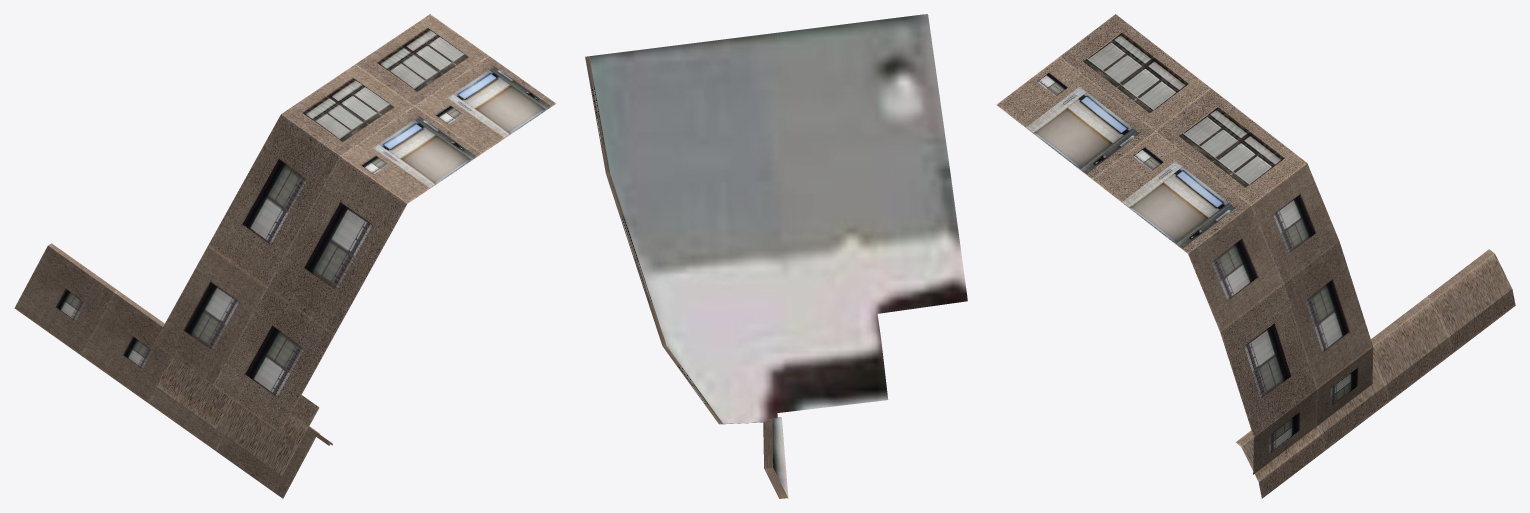
3 renders of one model, left to right at view 1: azimuth 30°, elevation 25°; view 2: azimuth 150°, elevation 25°; view 3: azimuth 270°, elevation 25°, orthographic. The views are drawn at different scales.
Bounding box in the file's own units: 18.04 × 19.93 × 20.93.
Materials: 8 (8 with a texture image).
